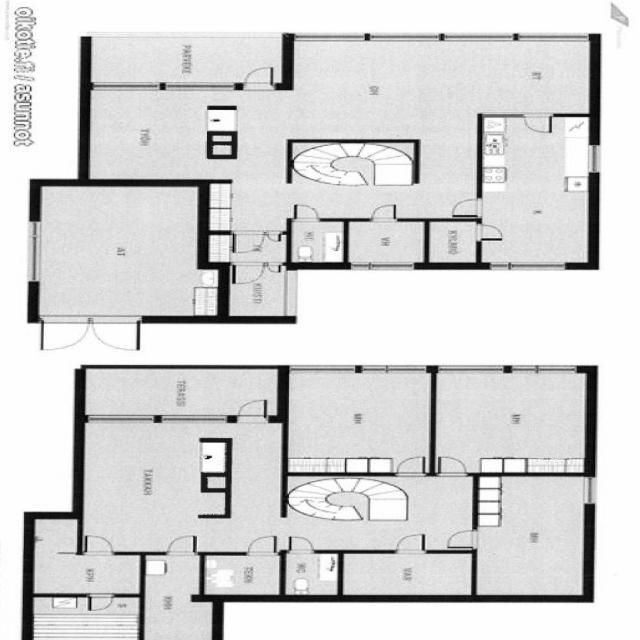door: (90, 315, 139, 354), (42, 315, 90, 354), (242, 64, 272, 91), (234, 261, 264, 285), (234, 230, 264, 254), (238, 397, 266, 422), (247, 532, 276, 554), (167, 533, 195, 555), (448, 197, 482, 215), (396, 531, 423, 553), (444, 530, 477, 547), (439, 455, 465, 475), (525, 113, 551, 133), (87, 535, 112, 555), (289, 533, 314, 553), (371, 202, 396, 222), (398, 456, 422, 476), (294, 203, 318, 222), (476, 225, 505, 240), (90, 593, 113, 611), (265, 230, 281, 245), (264, 261, 280, 275)
